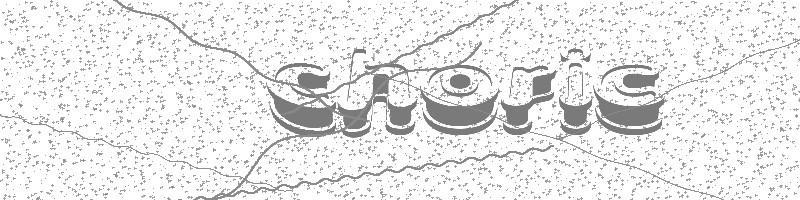c: (269, 63, 337, 137), (595, 65, 665, 134)
h: (339, 49, 418, 136)
i: (558, 49, 592, 135)
o: (421, 65, 499, 135)
r: (501, 65, 558, 135)
